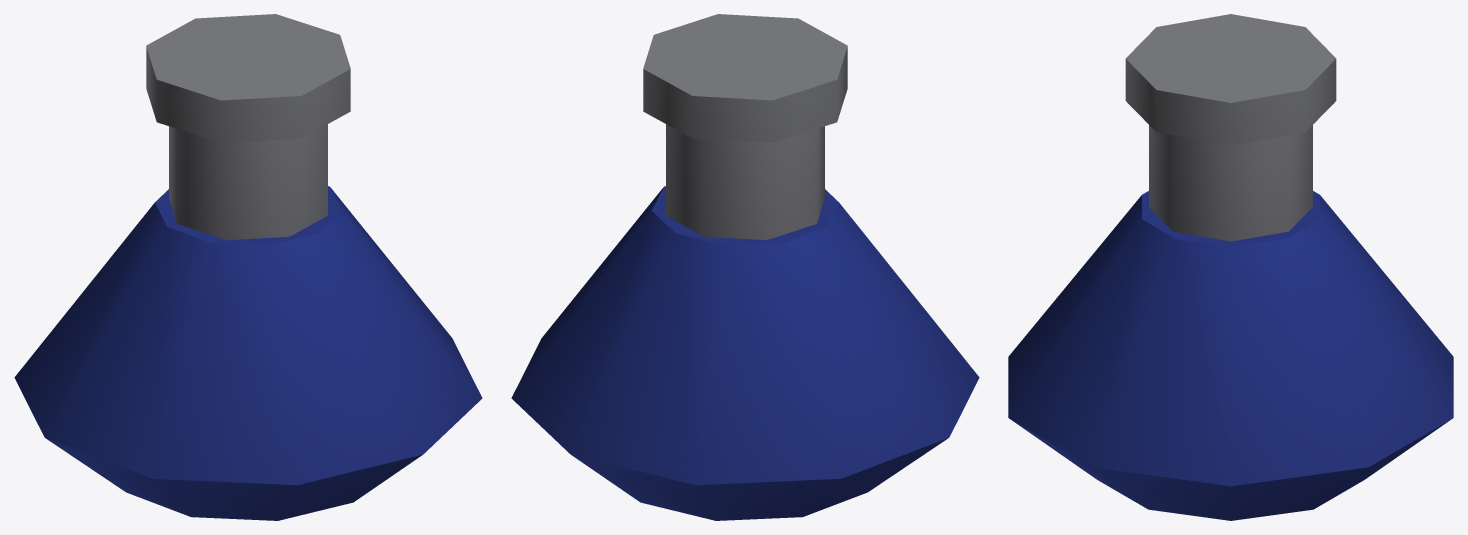
Rendered from cryogenic-science-pack.glb.
3 views of the same model, side by side, from view 1: azimuth 30°, elevation 25°; view 2: azimuth 150°, elevation 25°; view 3: azimuth 270°, elevation 25° (orthographic).
Parts seen in each view (by area): view 1: cryogenic-science-pack; view 2: cryogenic-science-pack; view 3: cryogenic-science-pack.
Boxes of the visible parts, <box> form: cryogenic-science-pack: <box>14,14,482,520</box>; cryogenic-science-pack: <box>511,14,979,520</box>; cryogenic-science-pack: <box>1008,14,1453,520</box>.
Size of the model in its own units: 0.2 by 0.19 by 0.1902.
